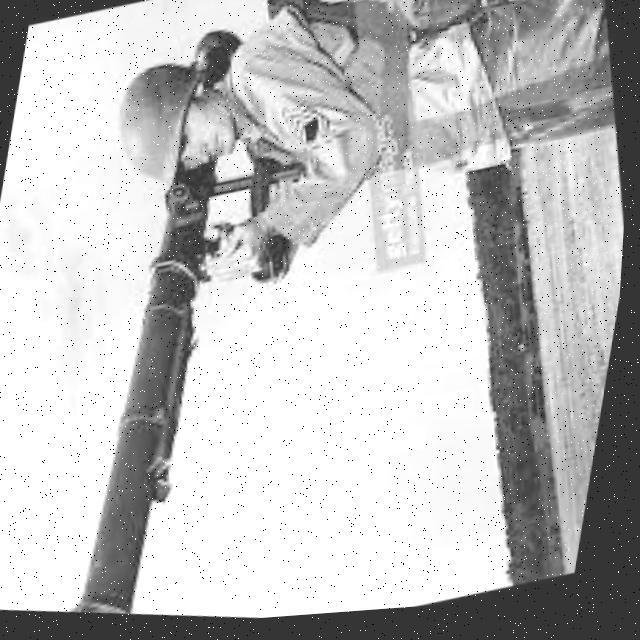rocket: (0, 0, 382, 640)
